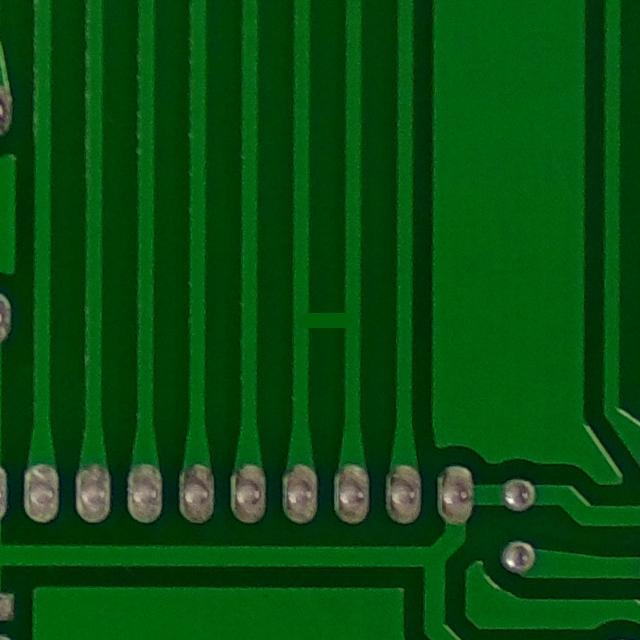short: (276, 287, 365, 353)
